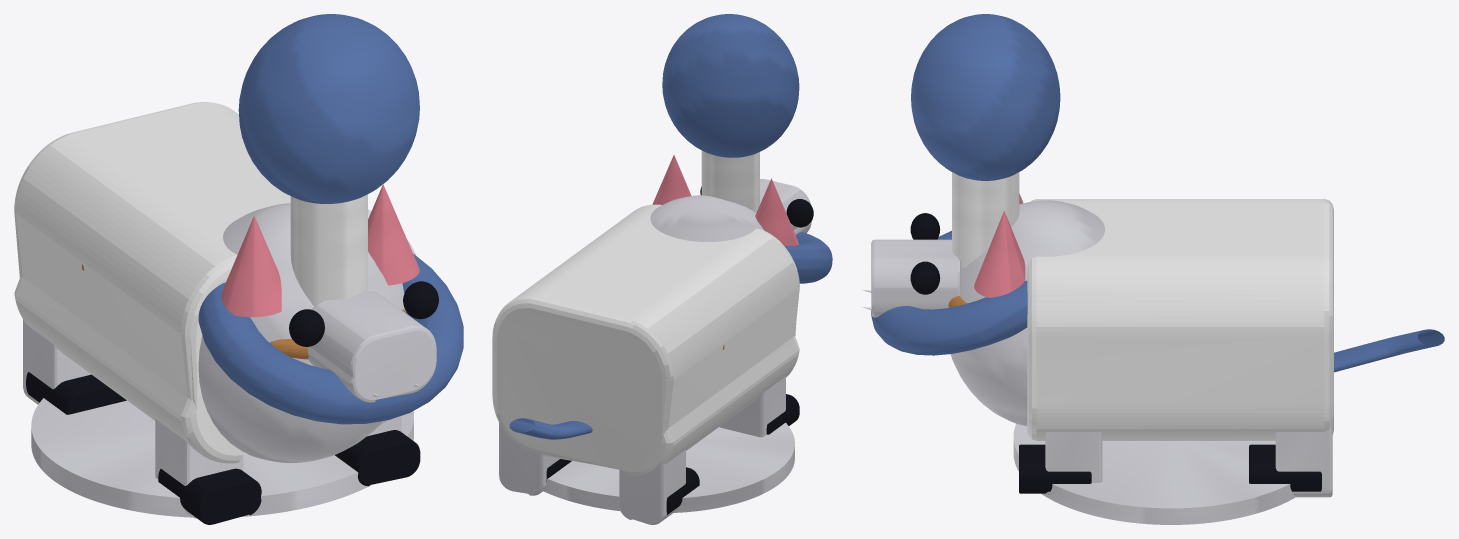
Rendered from 0407_极地动物图鉴_帝企鹅.glb.
3 views of the same model, side by side, from view 1: azimuth 30°, elevation 25°; view 2: azimuth 150°, elevation 25°; view 3: azimuth 270°, elevation 25° (orthographic). The views are drawn at different scales.
Visible parts, largest first — view 1: card_0407; view 2: card_0407; view 3: card_0407.
Boxes of the visible parts, x1,y1,x2,y2 form: card_0407: (14, 14, 463, 524); card_0407: (492, 14, 832, 524); card_0407: (861, 14, 1444, 524).
Size of the model in its own units: 0.7044 by 1 by 1.21.
